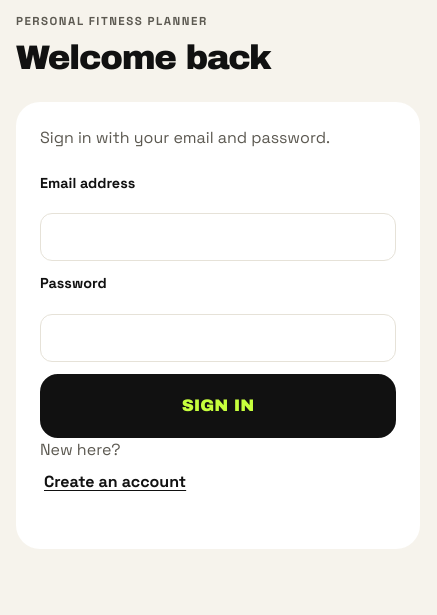
Test: authentication foundation › shows authentication errors clearly
The width and height of the screenshot is (437, 615).
Expected: the heading "Welcome back" is shown, [16,39,270,76]
Type "person@example.com" into the field labelled "Email address". click: (218, 237)
box: [40,213,396,261]
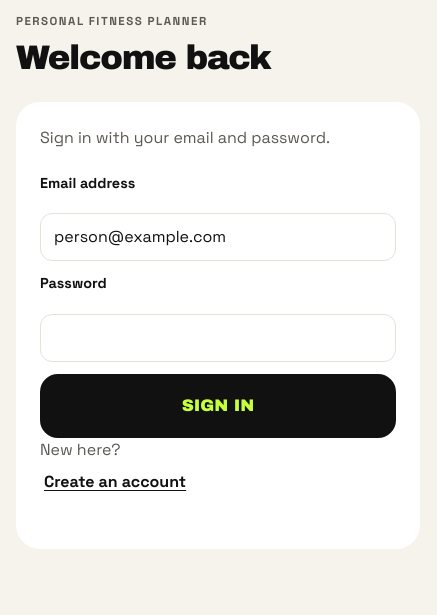
Type "wrong-password" into the password field labelled "Password". click: (218, 338)
box: [40,314,396,362]
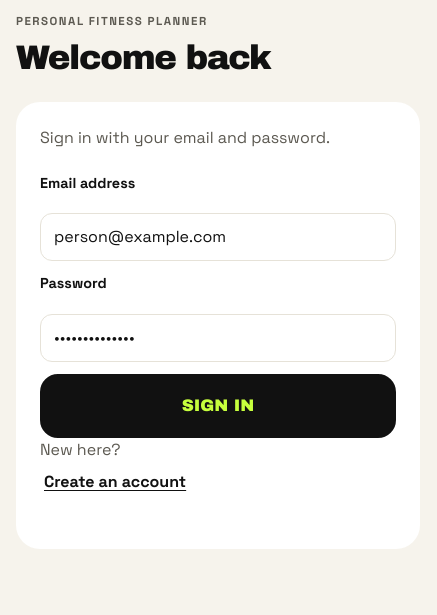
Click the button "Sign in". click: (218, 406)
box: [40,374,396,438]
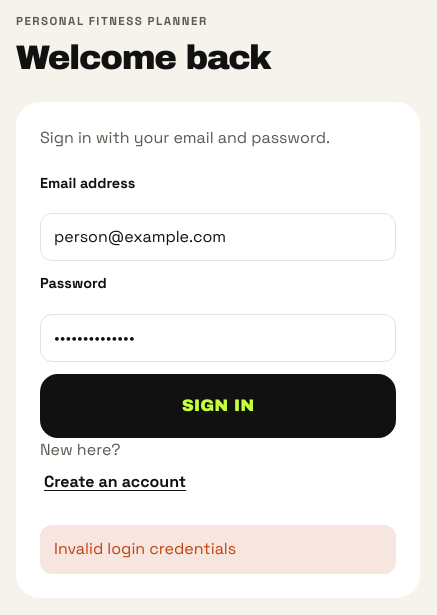
Expected: the message reads "Invalid login credentials", [54,538,236,559]
